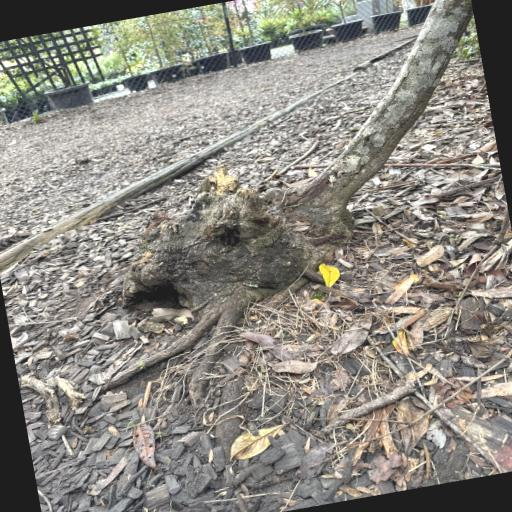tree root: (122, 0, 472, 368)
